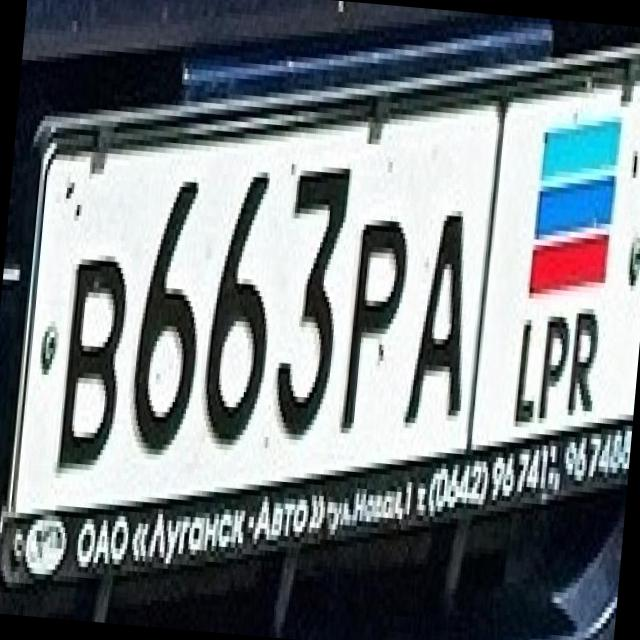3: (266, 147, 356, 437)
6: (116, 160, 218, 458), (188, 146, 288, 442)
A: (400, 191, 483, 432)
B: (47, 241, 132, 472)
P: (330, 196, 418, 432)
